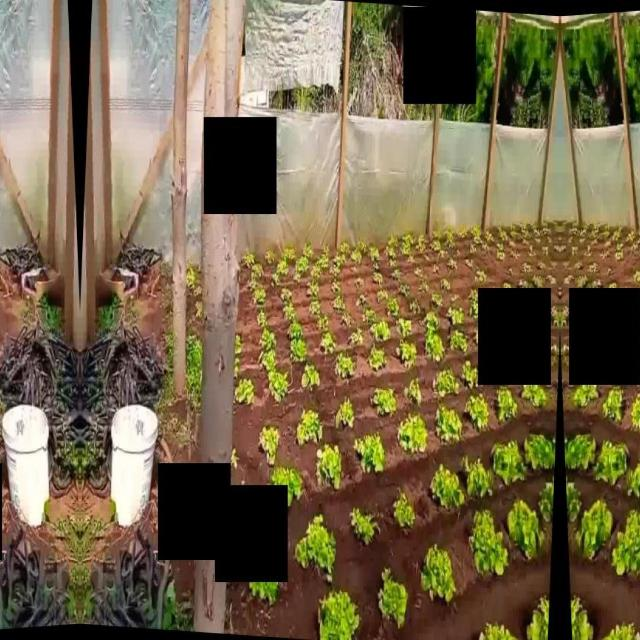healthy: (294, 513, 336, 575), (469, 508, 506, 576), (506, 500, 544, 560), (576, 500, 614, 560), (317, 589, 361, 640), (420, 544, 456, 602), (613, 508, 640, 575), (380, 565, 408, 627), (430, 461, 464, 507), (491, 442, 527, 484), (593, 442, 629, 484), (268, 461, 304, 502), (524, 432, 556, 472), (564, 432, 596, 472), (397, 410, 427, 450), (358, 434, 387, 474), (315, 446, 341, 490), (525, 593, 549, 640), (571, 593, 595, 640), (464, 457, 491, 498), (435, 403, 463, 442), (296, 408, 322, 446), (352, 506, 376, 546), (392, 490, 416, 530), (494, 386, 518, 419), (466, 394, 488, 430), (602, 386, 626, 419), (432, 368, 460, 396), (259, 422, 279, 461), (368, 386, 394, 416), (250, 580, 280, 606), (479, 620, 517, 640), (603, 620, 640, 640), (538, 481, 556, 522), (564, 481, 582, 522), (520, 384, 548, 408), (572, 384, 600, 408), (424, 330, 446, 360), (269, 371, 289, 402), (336, 402, 356, 432), (234, 379, 256, 405), (300, 364, 322, 390), (397, 341, 418, 367), (403, 377, 422, 405), (334, 353, 354, 379), (448, 328, 469, 352), (460, 362, 478, 388), (629, 456, 640, 497), (290, 339, 308, 363), (259, 328, 277, 352), (368, 346, 386, 370), (371, 321, 391, 342), (319, 330, 336, 354), (446, 306, 466, 326), (422, 310, 440, 330), (396, 317, 412, 338), (631, 394, 640, 429), (262, 350, 276, 372), (386, 298, 399, 318), (348, 328, 364, 344), (288, 321, 302, 339), (340, 310, 354, 328), (408, 297, 422, 315), (250, 263, 264, 279), (275, 259, 289, 275), (279, 248, 293, 264), (282, 303, 296, 319), (296, 258, 310, 274), (332, 252, 346, 268), (332, 295, 346, 311), (550, 306, 560, 328), (560, 306, 570, 328), (317, 312, 329, 330), (253, 290, 267, 304), (279, 286, 293, 300), (306, 282, 320, 296), (429, 238, 443, 252), (474, 270, 488, 284), (256, 310, 268, 326), (302, 242, 314, 258), (310, 266, 322, 282), (309, 299, 321, 315), (443, 224, 455, 240), (376, 288, 388, 304), (364, 308, 376, 324), (431, 292, 443, 308), (351, 248, 362, 264), (370, 243, 380, 260), (242, 254, 254, 268), (264, 250, 276, 264), (316, 255, 328, 269), (338, 243, 352, 255), (328, 264, 342, 276), (384, 246, 396, 260), (403, 230, 415, 244), (371, 270, 383, 284), (520, 261, 532, 275), (532, 274, 544, 288), (588, 261, 600, 275), (576, 274, 588, 288), (469, 302, 478, 320), (417, 234, 427, 250), (433, 221, 441, 241), (331, 279, 342, 293), (471, 224, 482, 238), (357, 294, 368, 308), (398, 283, 409, 297), (353, 276, 365, 288), (445, 236, 457, 248), (446, 258, 458, 270), (526, 246, 538, 258), (547, 274, 559, 286), (582, 246, 594, 258), (561, 274, 573, 286), (248, 278, 258, 292), (271, 273, 281, 287), (357, 240, 367, 254), (388, 234, 398, 248), (400, 242, 410, 256), (518, 278, 532, 288), (440, 278, 450, 292), (419, 280, 429, 294), (468, 288, 478, 302), (588, 278, 602, 288), (458, 227, 468, 240), (497, 230, 509, 240), (536, 260, 548, 270), (611, 230, 623, 240), (598, 230, 610, 240), (598, 250, 610, 260), (572, 260, 584, 270), (632, 270, 640, 284), (473, 233, 483, 244), (511, 230, 522, 240), (438, 250, 449, 260), (511, 250, 522, 260), (522, 228, 532, 238), (532, 228, 542, 238), (392, 270, 402, 280), (464, 258, 474, 268), (496, 252, 506, 262), (495, 242, 505, 252), (508, 240, 518, 250), (588, 228, 598, 238), (578, 228, 588, 238), (614, 252, 624, 262), (615, 242, 625, 252), (602, 240, 612, 250), (322, 242, 330, 254), (540, 227, 552, 235), (414, 266, 422, 278), (502, 280, 514, 288), (568, 227, 580, 235), (606, 280, 618, 288), (293, 272, 301, 282), (389, 258, 397, 268), (432, 264, 440, 274), (372, 262, 381, 270), (408, 256, 417, 264), (470, 244, 478, 253), (486, 232, 494, 240), (482, 244, 490, 252), (522, 238, 530, 246), (546, 236, 554, 244), (626, 232, 634, 240), (630, 244, 638, 252), (590, 238, 598, 246), (566, 236, 574, 244), (542, 247, 548, 256), (572, 247, 578, 256), (554, 245, 560, 253), (560, 245, 566, 253), (637, 233, 640, 244), (638, 224, 640, 238)
